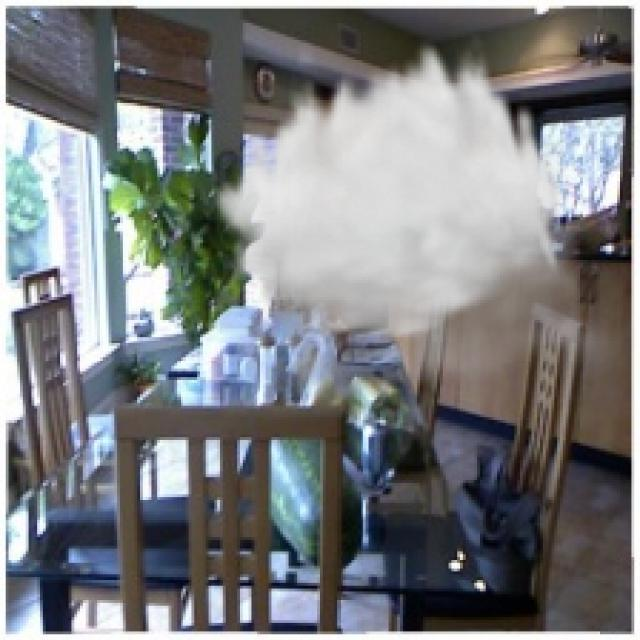Smoke: (212, 34, 637, 414)
